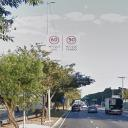speed_limit_50: (64, 35, 80, 52)
speed_limit_60: (46, 35, 63, 51)
